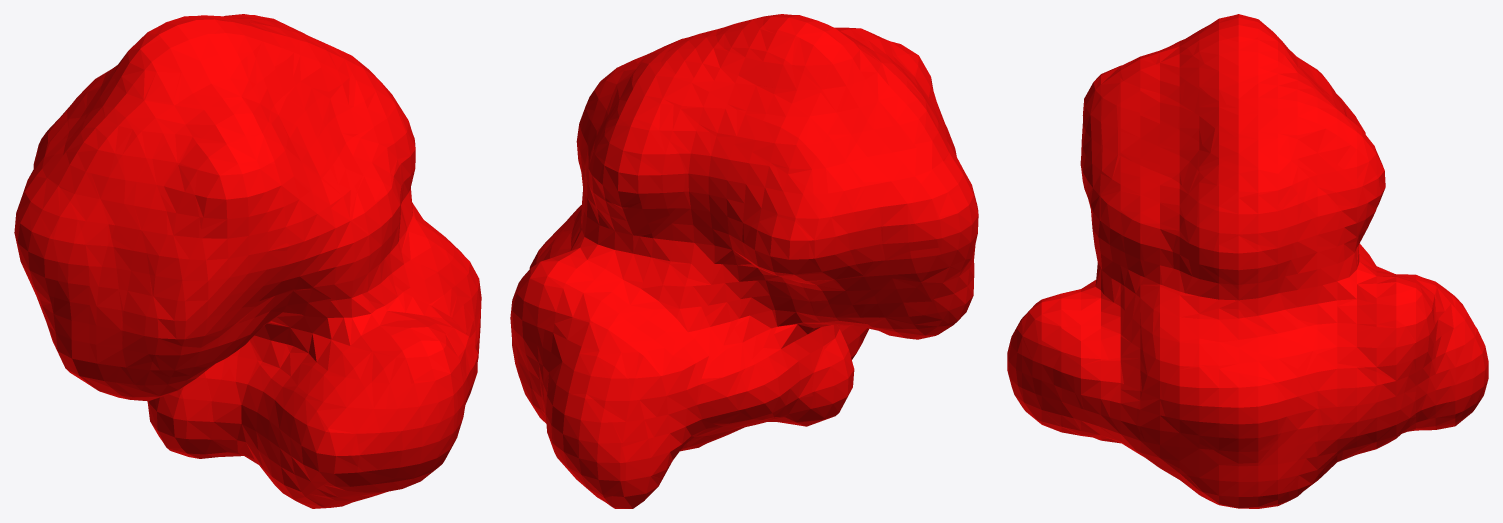
The model's file is ygeA_coarse.dae.
3 views of the same model, side by side, from view 1: azimuth 30°, elevation 25°; view 2: azimuth 150°, elevation 25°; view 3: azimuth 270°, elevation 25° (orthographic). The views are drawn at different scales.
Visible parts, largest first — view 1: ygeA; view 2: ygeA; view 3: ygeA.
Part boxes in pixels (x1,y1,x2,y2): ygeA: [14, 14, 481, 508]; ygeA: [510, 14, 978, 508]; ygeA: [1007, 14, 1488, 508].
Size of the model in its own units: 50.22 by 50.02 by 54.82.
